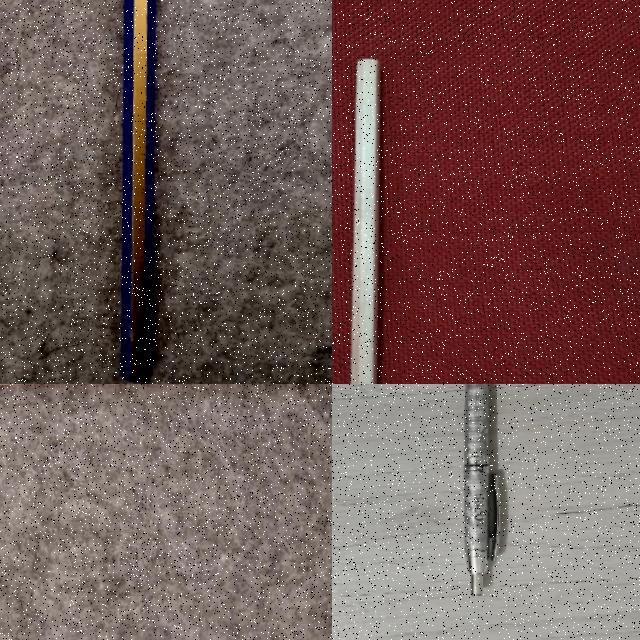pencil: (120, 0, 154, 381), (350, 60, 378, 383), (0, 384, 24, 384)
signature pen: (463, 384, 499, 595)
